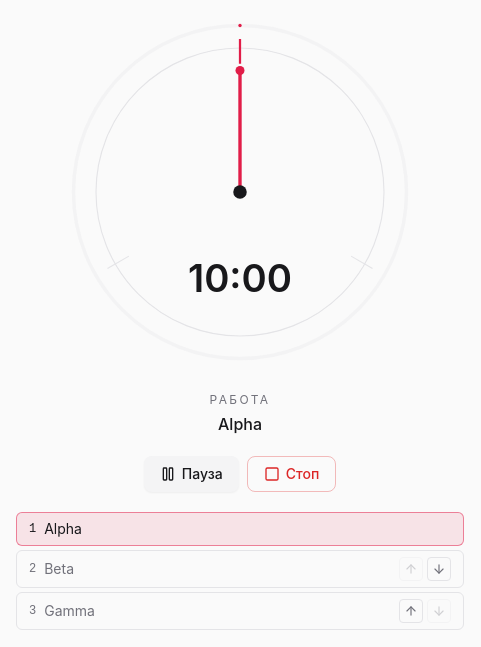
Scenario: FocusScreen › reorders the unplayed tail of a live session with legend arrows (DF27)
The width and height of the screenshot is (481, 647).
Expected: the list item with test id "dial.legend-item-3" is shown, [16,592,464,630]
Expected: the button with test id "dial.legend-up-2" is disabled, [399,557,423,581]
Click the button with test id "dial.legend-down-2": (439, 569) [427,557,451,581]
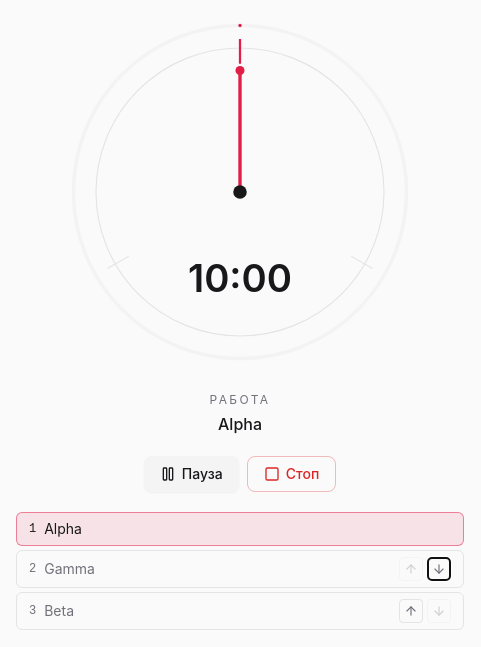
Expected: the list item with test id "dial.legend-item-2" shows "Gamma", [44,560,95,577]
